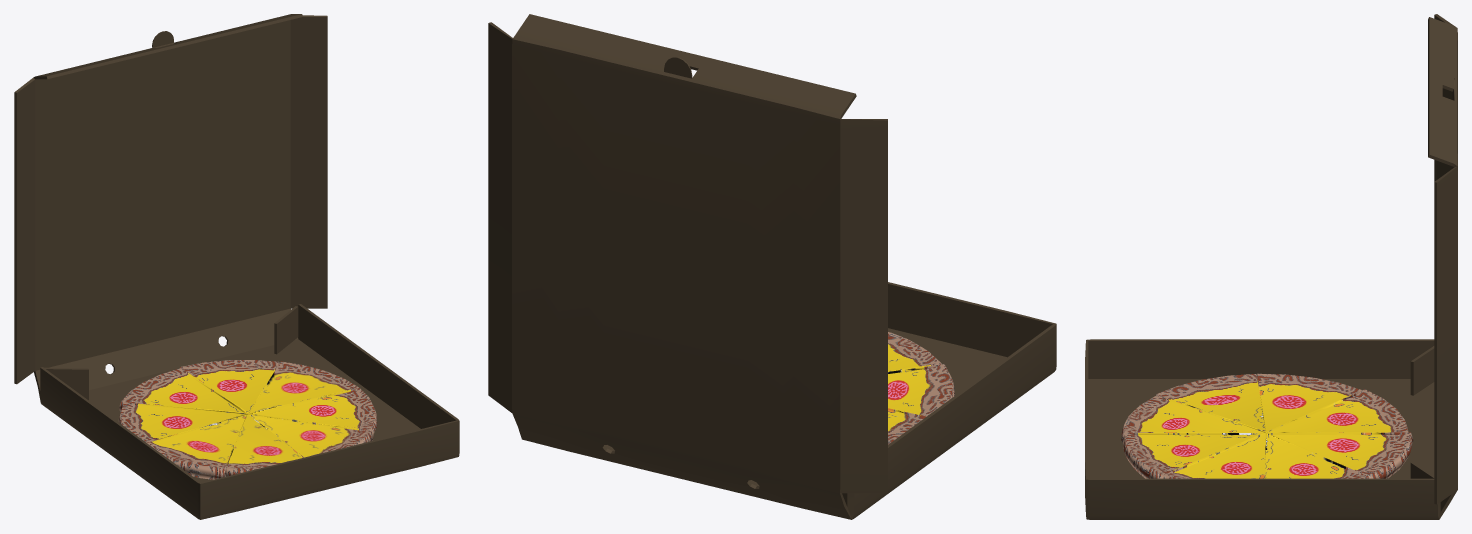
Rendered from color-pizza.glb.
The picture shows the model from 3 angles, left to right: view 1: azimuth 30°, elevation 25°; view 2: azimuth 150°, elevation 25°; view 3: azimuth 270°, elevation 25°; orthographic projection. The views are drawn at different scales.
Visible parts, largest first — view 1: box, slice.007, slice.002, slice.004, slice, slice.001, slice.005, slice.003, slice.006; view 2: box, slice.007, slice.006, slice.005; view 3: box, slice.001, slice.003, slice.007, slice.004, slice.005, slice.006, slice.002, slice.
Part boxes in pixels (x1,y1,x2,y2): box: (14, 14, 459, 519); slice.007: (147, 414, 247, 479); slice.002: (248, 388, 377, 433); slice.004: (119, 368, 246, 413); slice: (249, 361, 358, 413); slice.001: (180, 360, 279, 413); slice.005: (118, 402, 247, 442); slice.003: (247, 414, 374, 457); slice.006: (226, 415, 303, 476); box: (488, 14, 1056, 519); slice.007: (888, 364, 954, 416); slice.006: (888, 332, 941, 371); slice.005: (888, 408, 925, 444); box: (1085, 14, 1457, 519); slice.001: (1267, 432, 1413, 478); slice.003: (1123, 433, 1265, 478); slice.007: (1156, 374, 1265, 439); slice.004: (1268, 389, 1408, 432); slice.005: (1257, 373, 1361, 444); slice.006: (1121, 395, 1263, 442); slice.002: (1163, 432, 1265, 478); slice: (1265, 433, 1368, 478).
Bounding box in the file's own units: 2.28 × 2.34 × 2.13.
2 materials, 1 textured.
